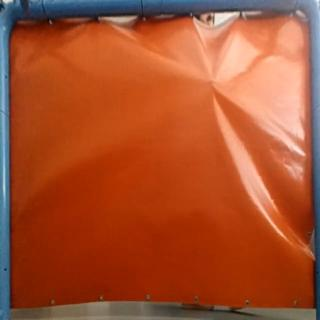Hit-hRxx: (203, 73, 220, 92)
